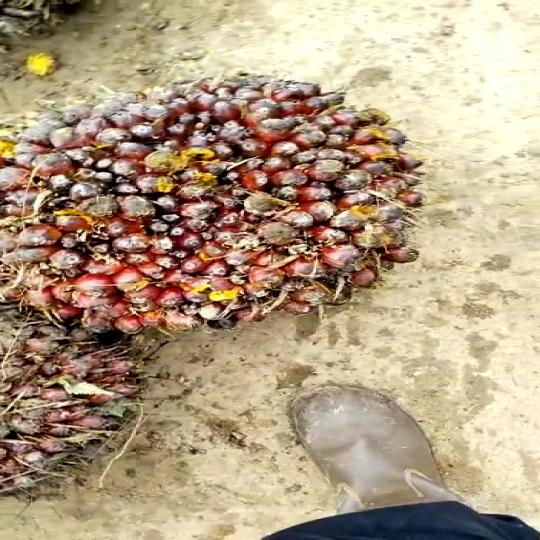kurang masak: (0, 68, 418, 337)
